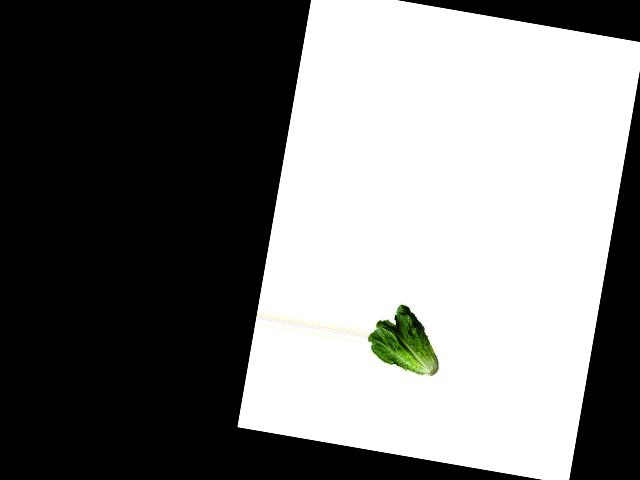lettuce: (361, 297, 448, 379)
